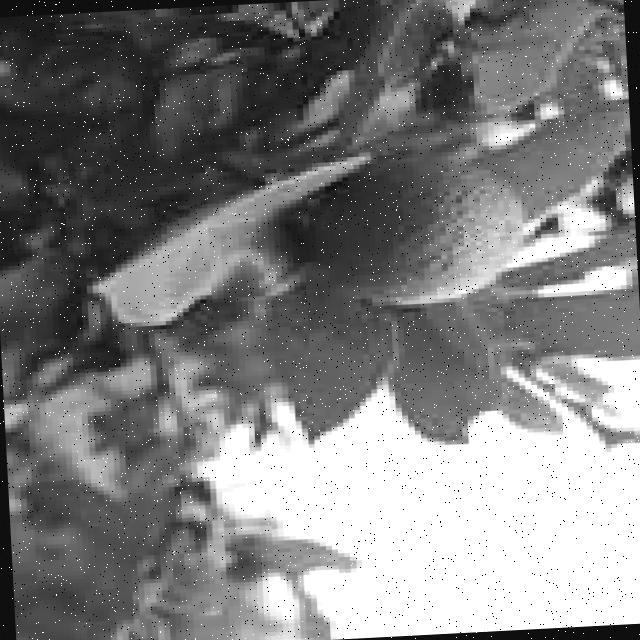Unripe: (312, 152, 530, 314)
